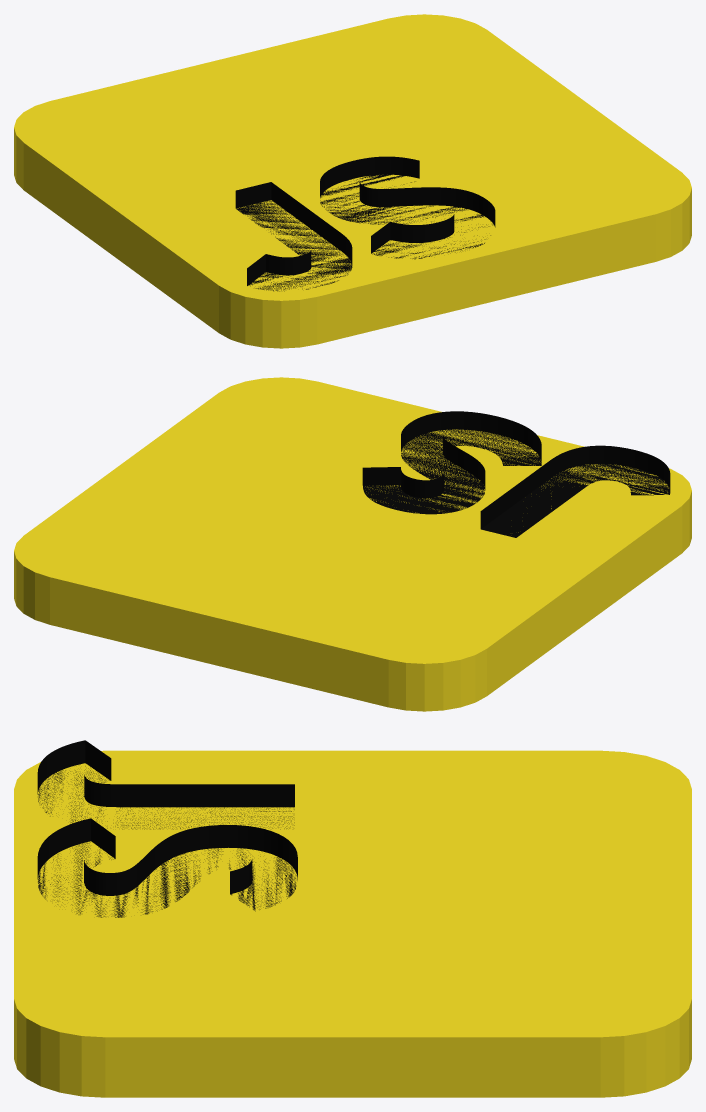
File: javascript.glb
3 renders of one model, top to bottom at view 1: azimuth 30°, elevation 25°; view 2: azimuth 150°, elevation 25°; view 3: azimuth 270°, elevation 25°, orthographic. The views are drawn at different scales.
Parts seen in each view (by area): view 1: Curve; view 2: Curve; view 3: Curve.
Part boxes in pixels (x1,y1,x2,y2): Curve: (14, 14, 691, 348); Curve: (14, 377, 691, 711); Curve: (14, 740, 691, 1097).
Bounding box in the file's own units: 0.3556 × 0.0482 × 0.3555.
